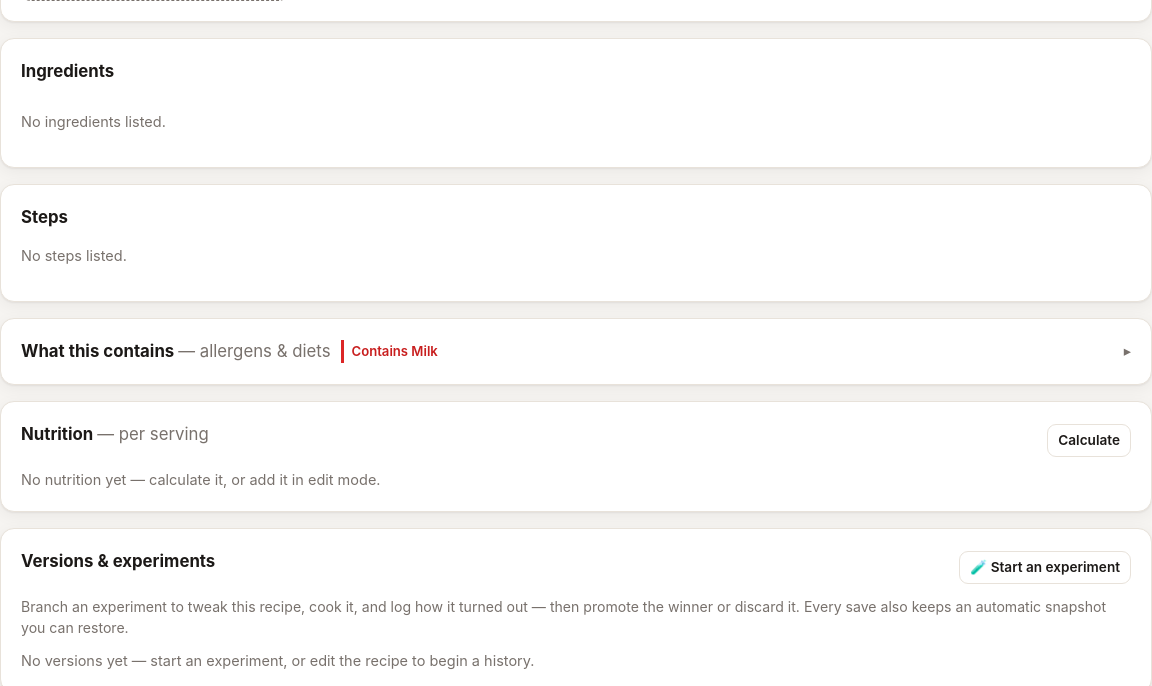
diet advisories › expanding reveals the detail and hides the summary chip
The image size is (1152, 686).
(page scrolled)
Click the button with class "sf-toggle".
click(100, 351)  # box [21, 339, 1131, 364]
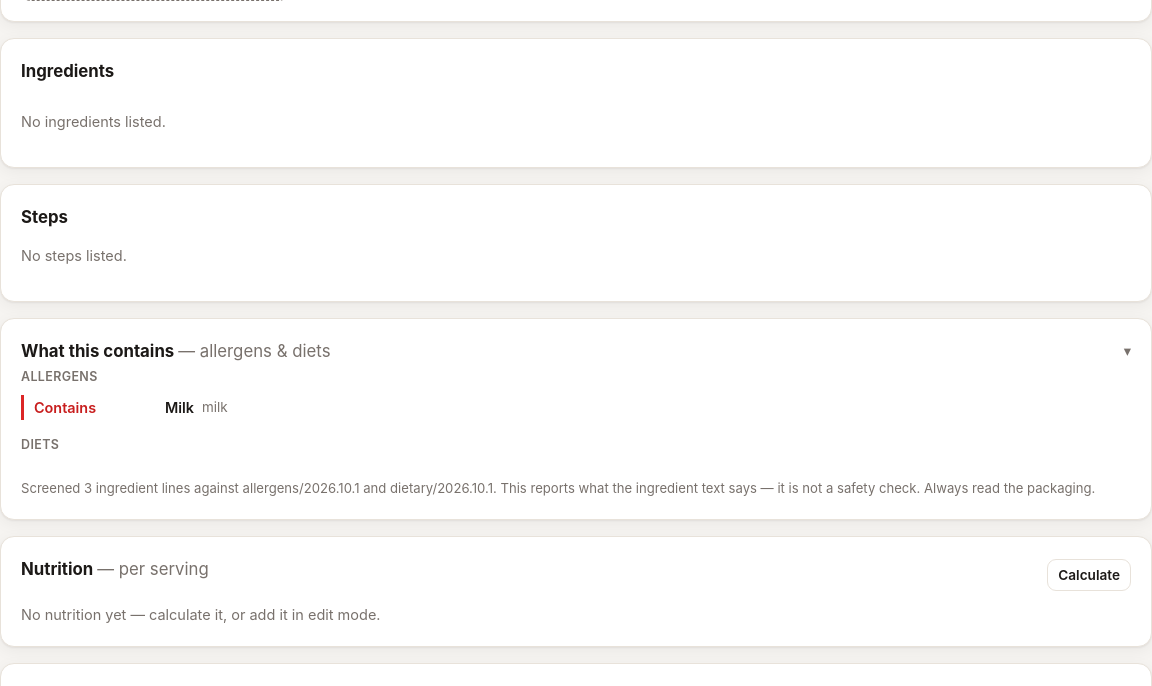
Now the button with class "sf-toggle" is expanded, box [21, 339, 1131, 364]
